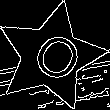O_SW: (19, 24, 83, 89)
